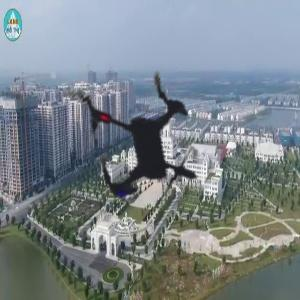drone: (14, 6, 288, 280)
